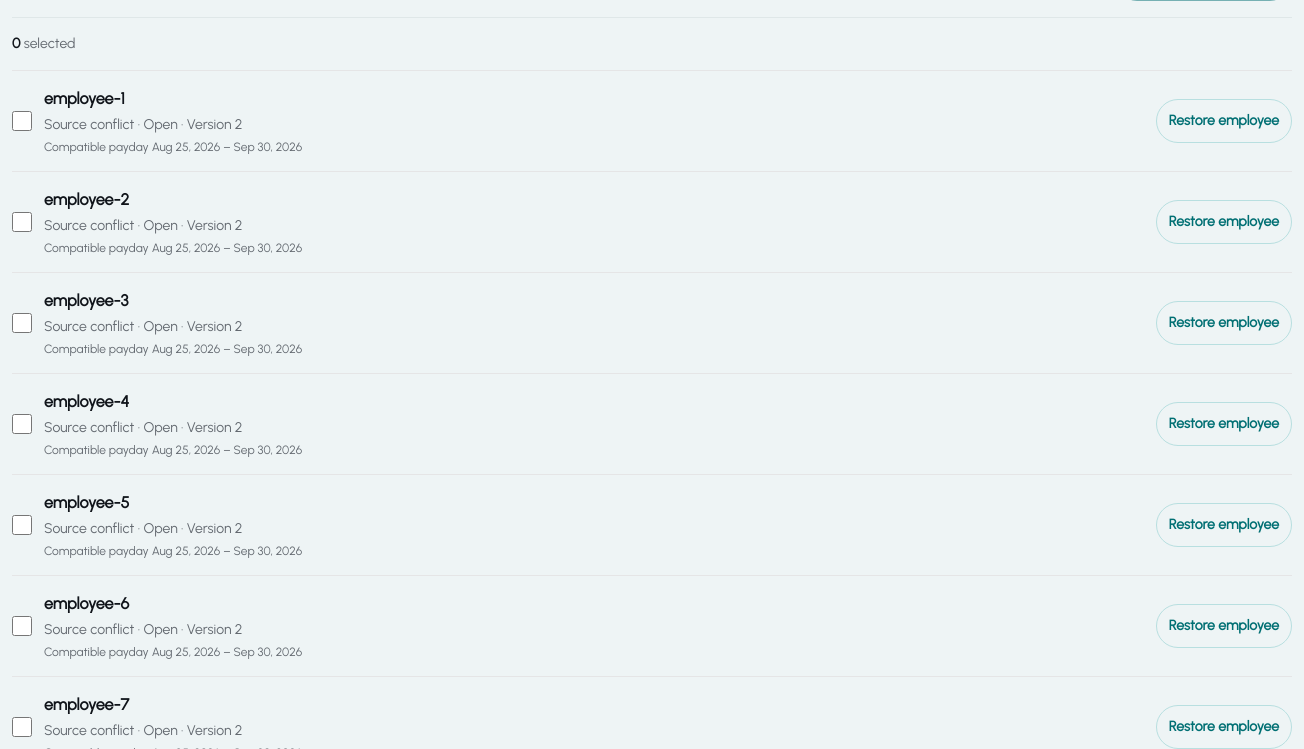
Test: PayrollObligationsPanel › retains compatible version-bound selections across pages without mounting more than one 25-row page
This screenshot has width=1304, height=749.
Later steps or results of the test are not shown.
Expected: the 1st text "Compatible payday Aug 25, 2026 – Sep 30, 2026" is shown, [44, 140, 302, 154]
Step 1. Click the checkbox named "select obligation for employee-1" → (22, 121), box [12, 111, 32, 131]
(page scrolled)
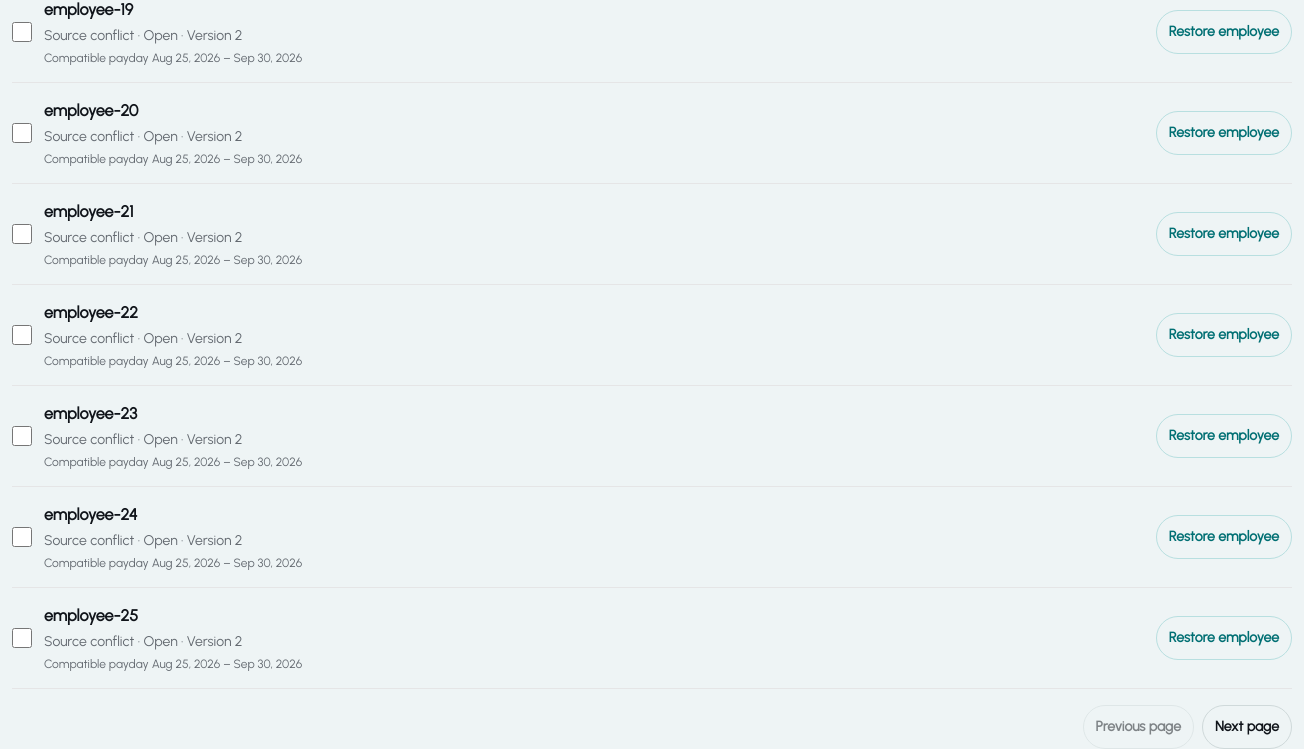
Step 2. Click the button "Next page" → (1247, 727), box [1202, 705, 1292, 748]
(page scrolled)
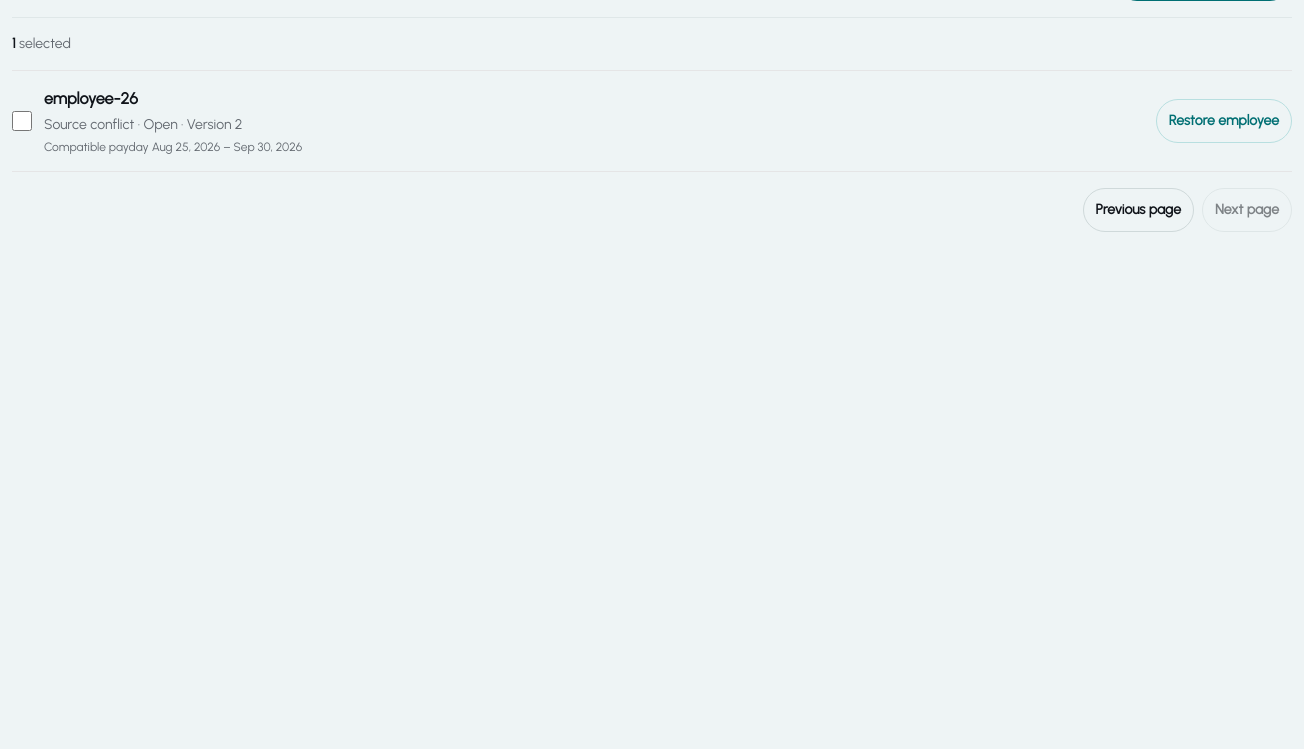
Expected: the number of checkboxes is 1, [12, 111, 32, 131]
